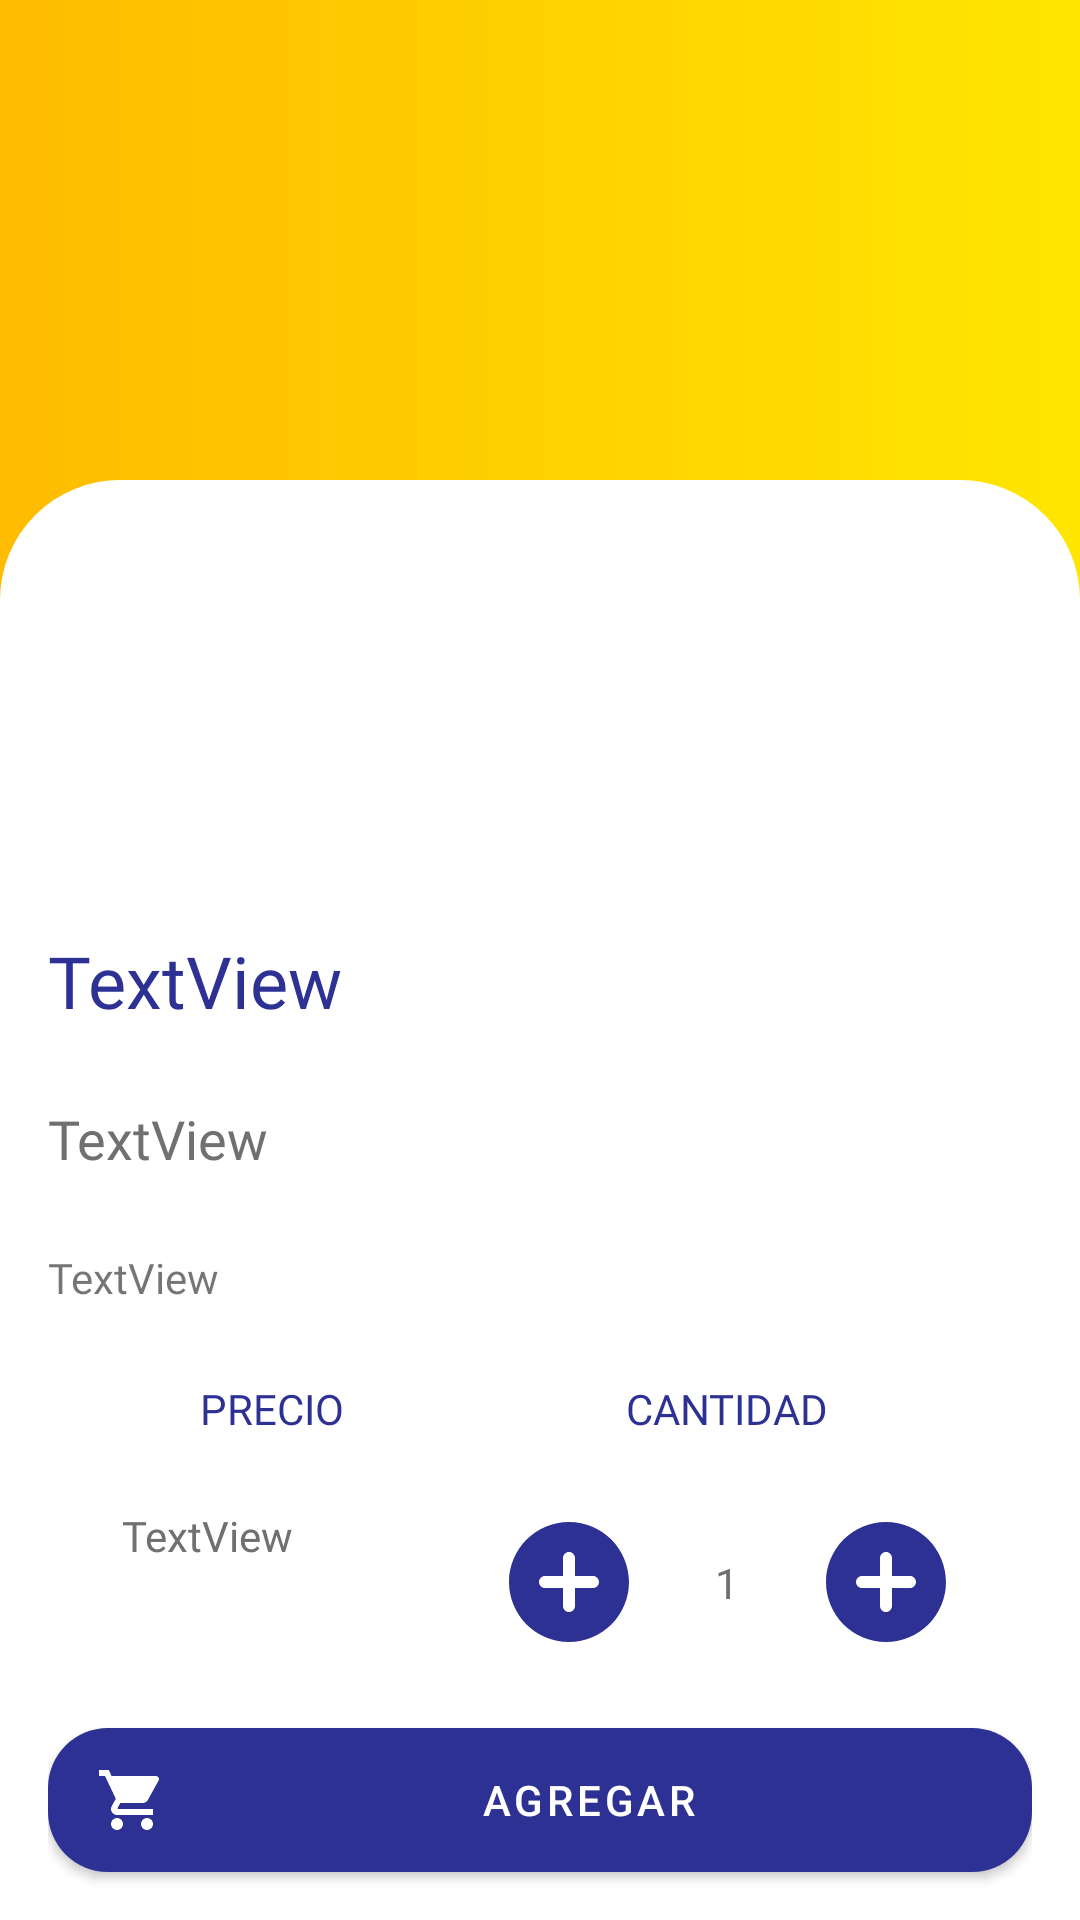

Locate icon controls on the screen. Image size 1080 x 1920, boxes as (x1, y1, x2, y2).
add circulo: (509, 1522, 629, 1642), (826, 1522, 946, 1642)
